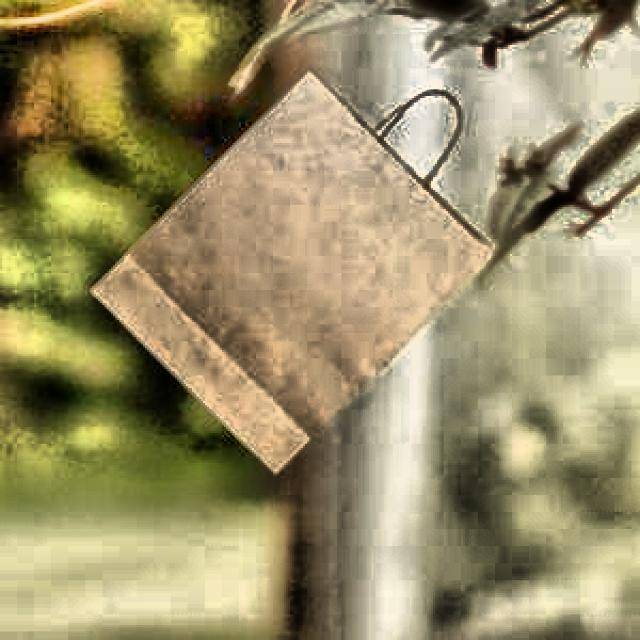Paper-bag: (95, 47, 498, 497)
